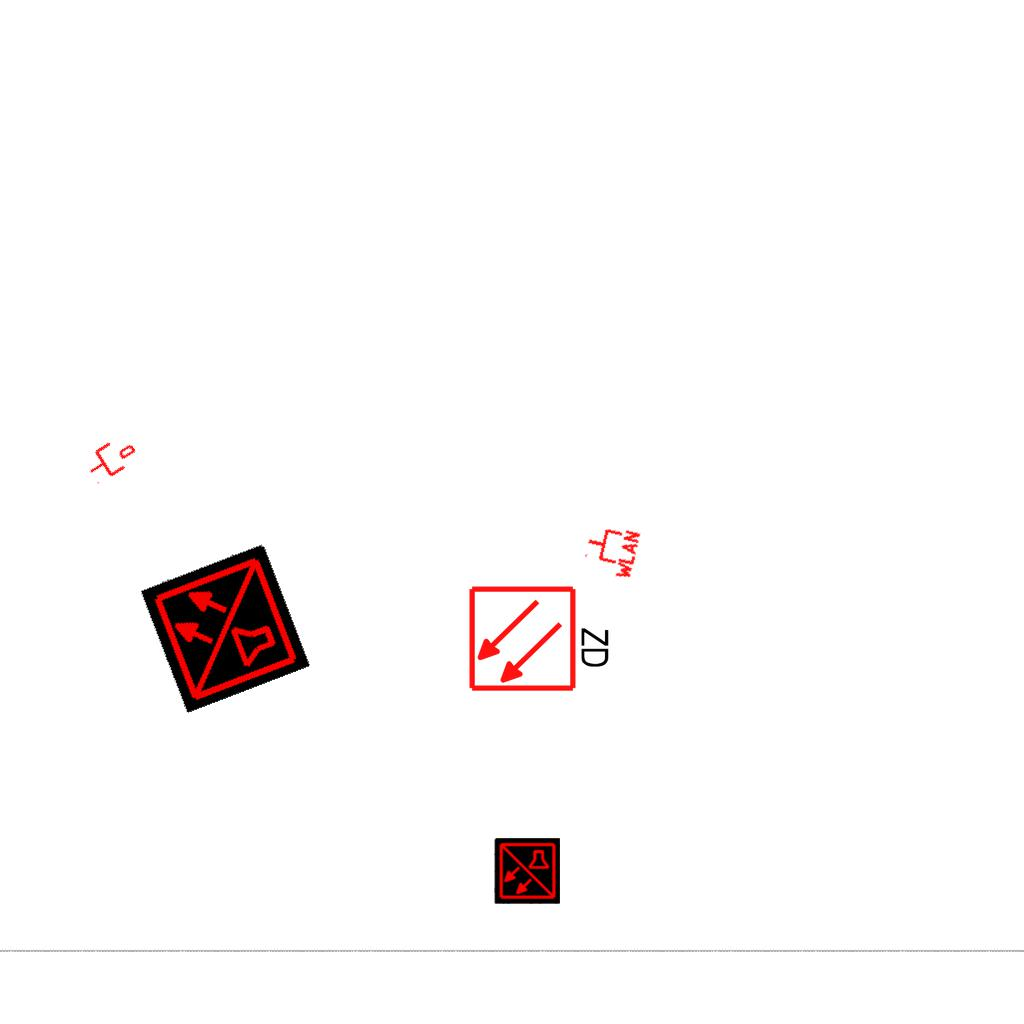Datenanschluss_einfach: (80, 431, 142, 487)
OKW_Multisensormelder_(Kombination_optischer_Rauch-Kahlenmonoxid_Waerme-Melder): (139, 542, 311, 714), (494, 838, 560, 904)
WLAN: (579, 519, 643, 583)
ZD_Melder_in_Zwischendecke_mit_Revisionsoeffnung_mind_40_x_40_cm: (467, 580, 616, 694)
